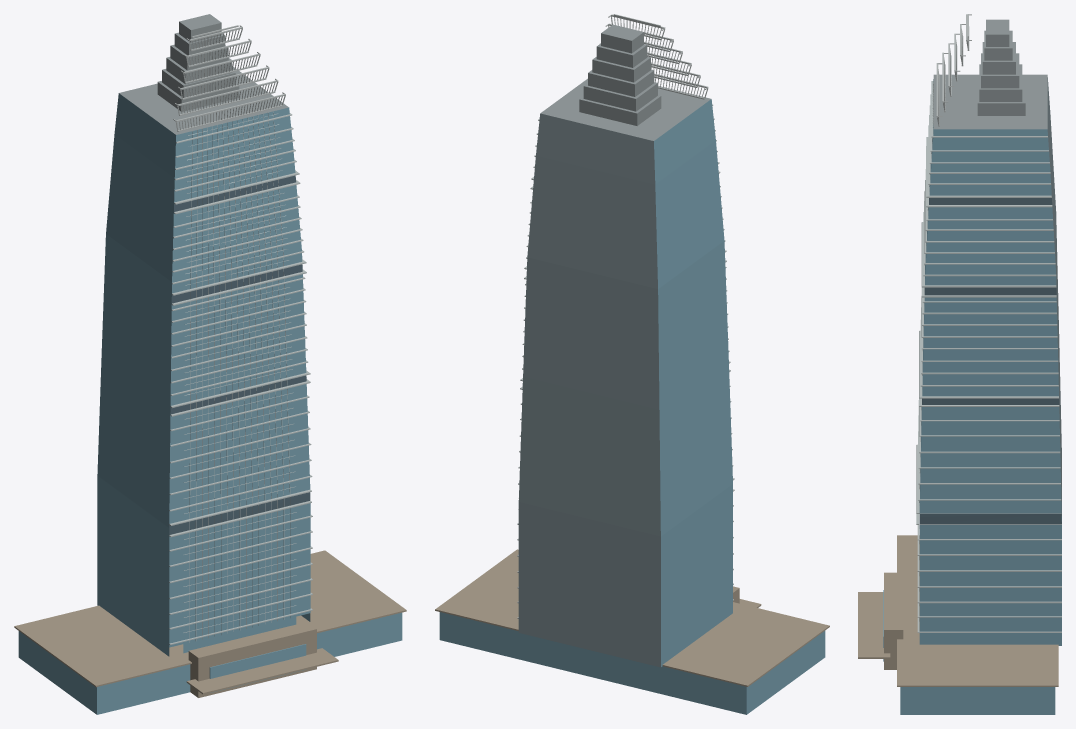
The model's file is light.glb.
3 renders of one model, left to right at view 1: azimuth 30°, elevation 25°; view 2: azimuth 150°, elevation 25°; view 3: azimuth 270°, elevation 25°, orthographic.
Parts seen in each view (by area): view 1: H_surface_00, Podium_assumed_low_wings, H_main_row_00, Podium_top_schematic, G_unknown_roof_at_crown_boundary, G_tier0_lower, H_surface_01; view 2: I_DISPLAY_unaffected_body_faces, Podium_assumed_low_wings, Podium_top_schematic, G_unknown_roof_at_crown_boundary, G_tier0_lower; view 3: H_surface_00, H_main_row_00, Podium_top_schematic, G_unknown_roof_at_crown_boundary, Podium_assumed_low_wings, H_surface_01, I_DISPLAY_unaffected_body_faces, G_tier0_lower.
Boxes of the visible parts, <box> form: H_surface_00: <box>169,107,310,647</box>; Podium_assumed_low_wings: <box>18,93,402,714</box>; H_main_row_00: <box>169,112,312,645</box>; Podium_top_schematic: <box>14,550,406,697</box>; G_unknown_roof_at_crown_boundary: <box>119,14,288,134</box>; G_tier0_lower: <box>173,25,285,131</box>; H_surface_01: <box>169,175,310,534</box>; I_DISPLAY_unaffected_body_faces: <box>518,113,660,667</box>; Podium_assumed_low_wings: <box>439,99,825,714</box>; Podium_top_schematic: <box>435,549,829,686</box>; G_unknown_roof_at_crown_boundary: <box>540,24,710,140</box>; G_tier0_lower: <box>600,14,708,99</box>; H_surface_00: <box>919,79,1061,635</box>; H_main_row_00: <box>916,81,1061,632</box>; Podium_top_schematic: <box>858,535,1058,686</box>; G_unknown_roof_at_crown_boundary: <box>933,19,1047,129</box>; Podium_assumed_low_wings: <box>883,516,1061,714</box>; H_surface_01: <box>919,198,1061,524</box>; I_DISPLAY_unaffected_body_faces: <box>1047,77,1061,515</box>; G_tier0_lower: <box>936,14,971,126</box>.
Size of the model in its own units: 55 by 105 by 31.5.
